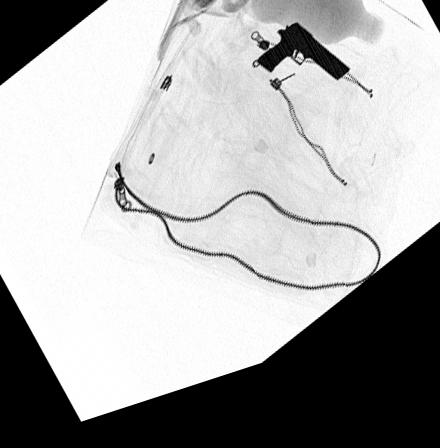Gun: (257, 38, 350, 99)
